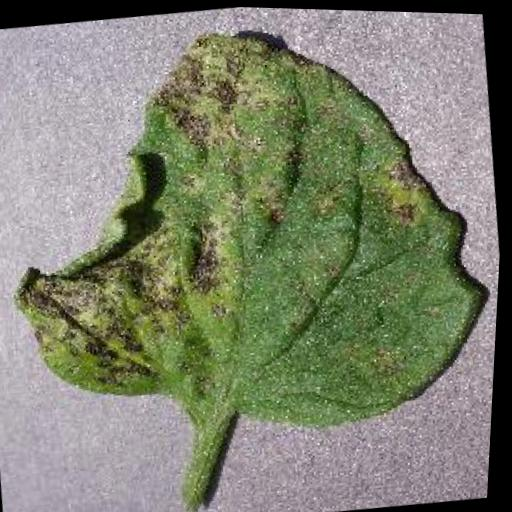Septoria: (0, 0, 512, 460)
